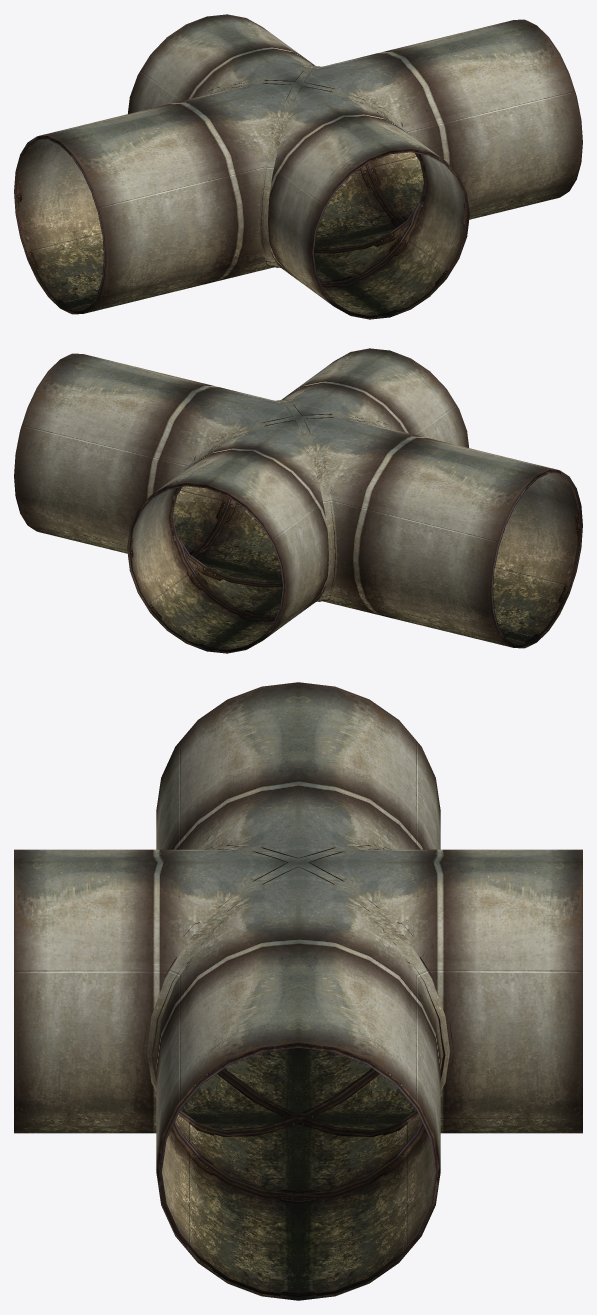
File: flush_tunnel_02_07_4way.dae
3 renders of one model, top to bottom at view 1: azimuth 30°, elevation 25°; view 2: azimuth 150°, elevation 25°; view 3: azimuth 270°, elevation 25°, orthographic. The views are drawn at different scales.
Parts seen in each view (by area): view 1: polySurface1017; view 2: polySurface1017; view 3: polySurface1017.
Boxes of the visible parts, x1,y1,x2,y2 form: polySurface1017: (14,14,582,319); polySurface1017: (14,348,582,653); polySurface1017: (14,682,582,1300).
Size of the model in its own units: 12 by 4.01 by 8.
